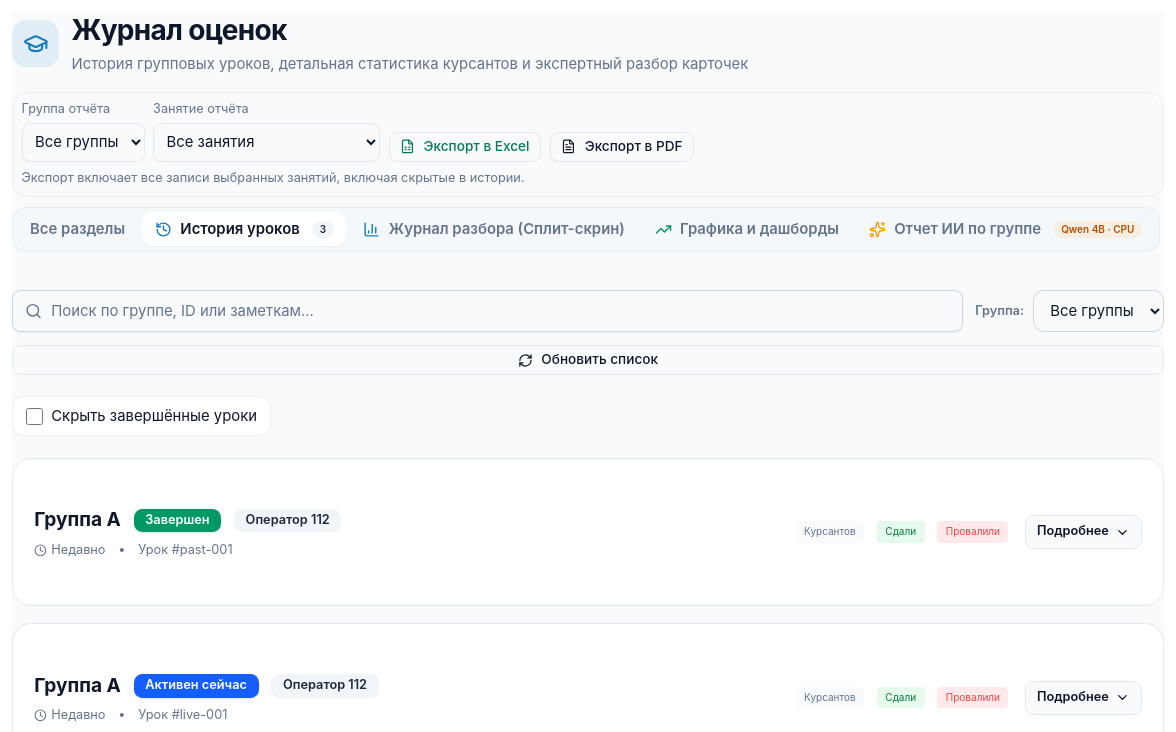
Test case: reversibly hides only completed lessons and restores the preference on remount
This screenshot has width=1176, height=732.
Later steps or results of the test are not shown.
Check: the text "Урок #past-001" is shown, box [138,542,233,558]
Step 1. Click the checkbox labelled "Скрыть завершённые уроки" → coordinates (34, 416), box [26,408,43,425]
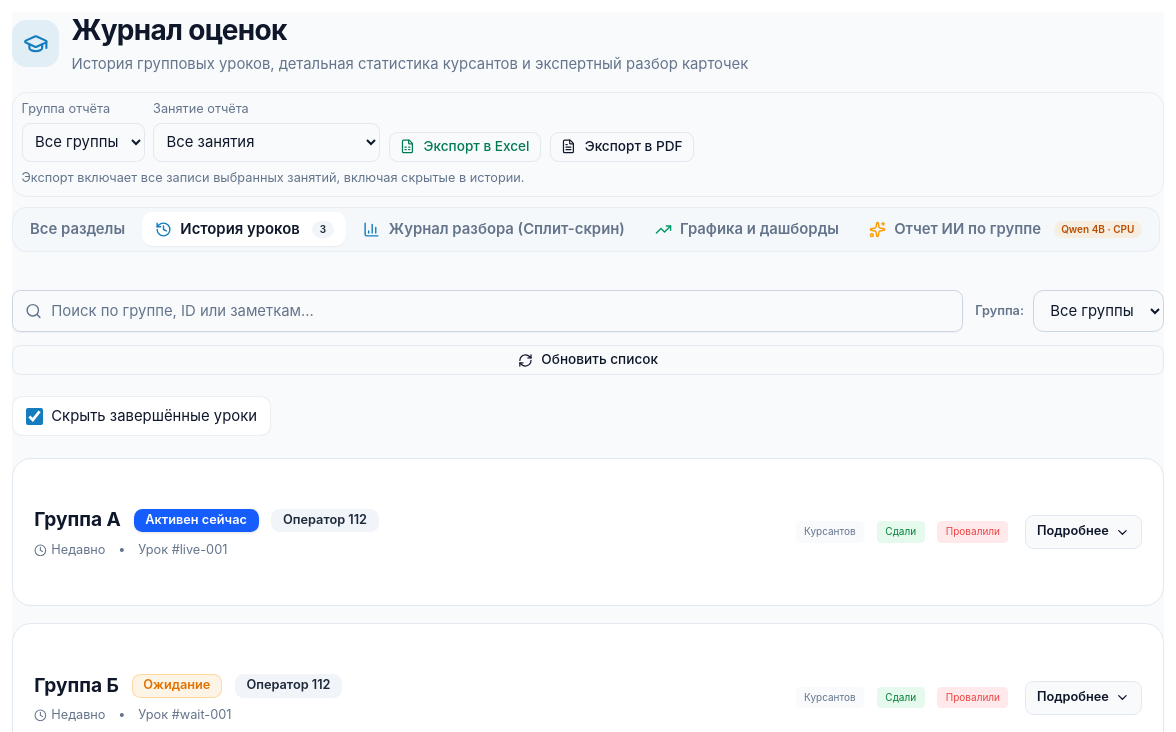
Check: the text "Урок #live-001" is shown, box [138,542,227,558]
Check: the button "Урок #past-001" is gone
